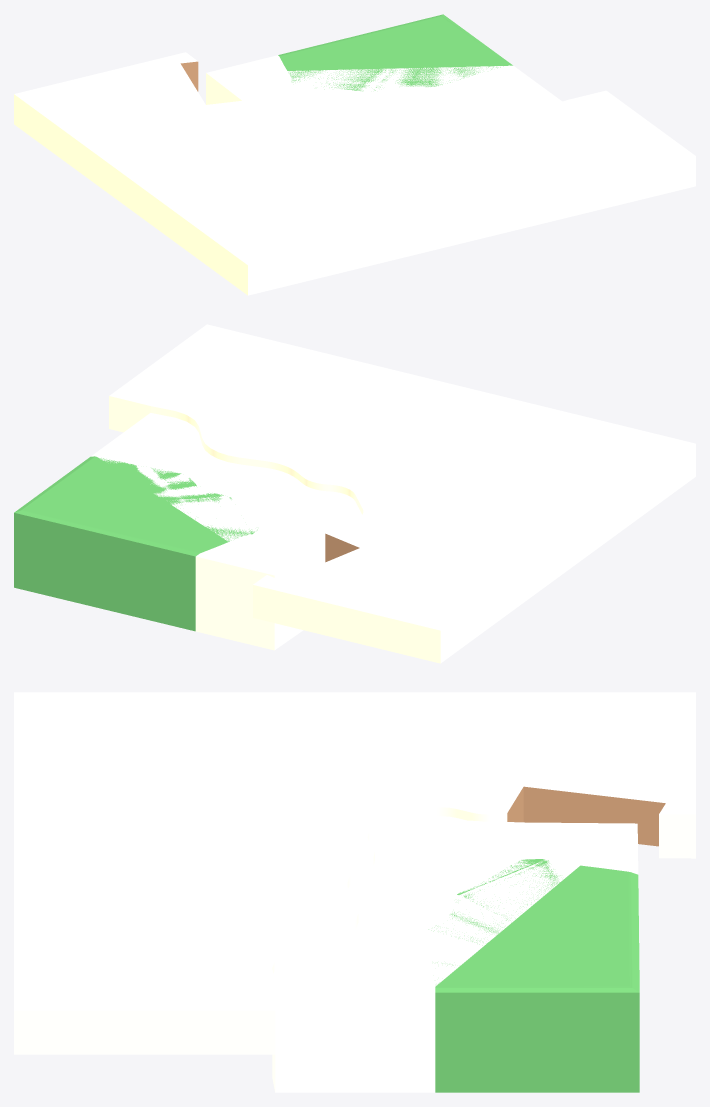
Rendered from Ground_Extended.fbx.
3 renders of one model, top to bottom at view 1: azimuth 30°, elevation 25°; view 2: azimuth 150°, elevation 25°; view 3: azimuth 270°, elevation 25°, orthographic. The views are drawn at different scales.
Parts seen in each view (by area): view 1: OceanBarrier, Ground_Extended; view 2: OceanBarrier, Ground_Extended; view 3: OceanBarrier, Ground_Extended.
Part boxes in pixels (left/top/right/bottom): OceanBarrier: left=14, top=52, right=695, bottom=295; Ground_Extended: left=206, top=14, right=561, bottom=128; OceanBarrier: left=109, top=324, right=695, bottom=663; Ground_Extended: left=14, top=413, right=361, bottom=650; OceanBarrier: left=14, top=692, right=695, bottom=1054; Ground_Extended: left=272, top=816, right=639, bottom=1092.
Size of the model in its own units: 110 by 17.54 by 99.45.
